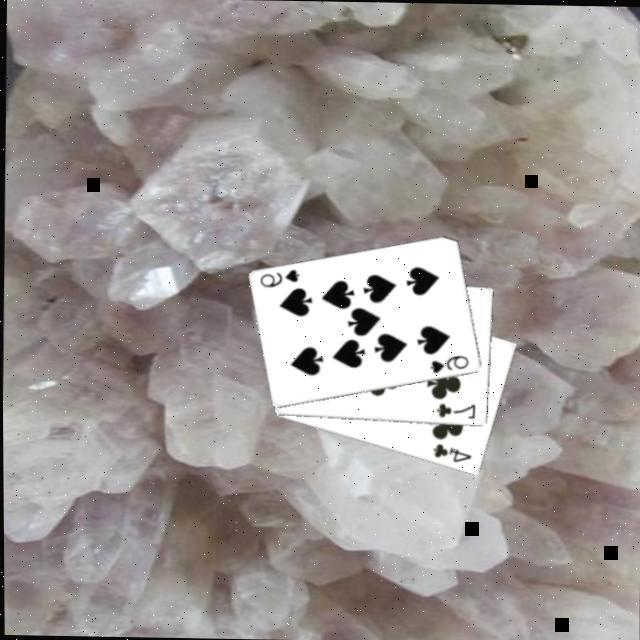4C: (426, 441, 471, 466)
7C: (431, 401, 476, 422)
9S: (254, 266, 300, 291), (424, 352, 469, 377)
